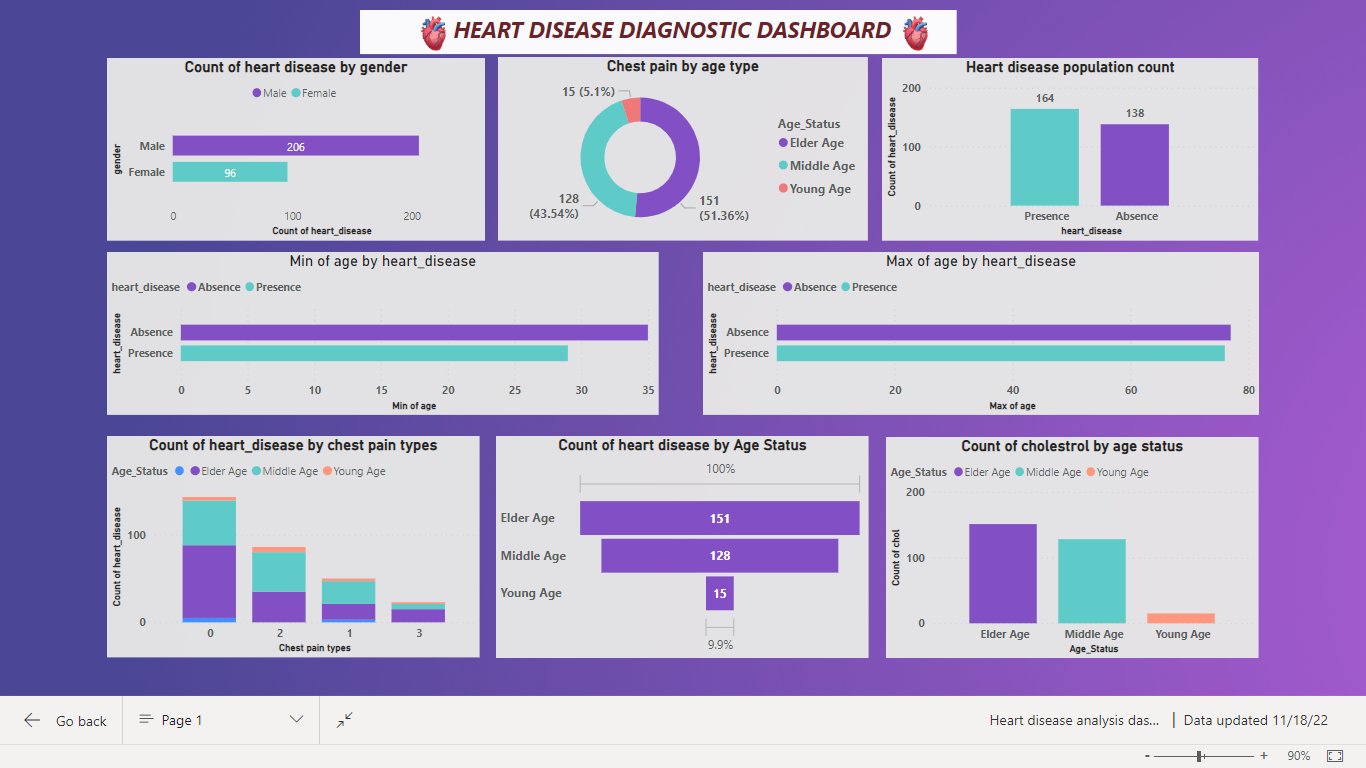

What the dashboard file says about the page in this screenshot:
{"tool":"powerbi","page":{"name":"Page 1","canvas":[1280,720],"ordinal":0},"visuals":[{"type":"columnChart","title":"Heart disease population count","fields":{"Category":["Heart Disease Diagnostic Analysis cleaned.heart_disease"],"Y":["CountNonNull(Heart Disease Diagnostic Analysis cleaned.heart_disease)"]},"box":[861.5,53.8,418.5,203.1],"z":0},{"type":"barChart","title":"Count of heart disease by gender ","fields":{"Y":["CountNonNull(Heart Disease Diagnostic Analysis cleaned.heart_disease)"],"Category":["Heart Disease Diagnostic Analysis cleaned.Sex1"],"Series":["Heart Disease Diagnostic Analysis cleaned.Sex1"]},"box":[0,53.8,420,203.1],"z":1000},{"type":"columnChart","title":"Count of heart_disease by chest pain types ","fields":{"Category":["Heart Disease Diagnostic Analysis cleaned.cp"],"Y":["CountNonNull(Heart Disease Diagnostic Analysis cleaned.heart_disease)"],"Series":["Heart Disease Diagnostic Analysis cleaned.Age_Status"]},"box":[0,473.8,413.8,246.2],"z":2000},{"type":"barChart","title":"Max of age by heart_disease ","fields":{"Y":["Max(Heart Disease Diagnostic Analysis cleaned.age)"],"Category":["Heart Disease Diagnostic Analysis cleaned.heart_disease"],"Series":["Heart Disease Diagnostic Analysis cleaned.heart_disease"]},"box":[662,269,618,181],"z":3000},{"type":"funnel","title":"Count of heart disease by Age Status","fields":{"Category":["Heart Disease Diagnostic Analysis cleaned.Age_Status"],"Y":["CountNonNull(Heart Disease Diagnostic Analysis cleaned.heart_disease)"]},"box":[432.2,473.3,414.4,246.7],"z":4000},{"type":"donutChart","title":"Chest pain by age type","fields":{"Y":["CountNonNull(Heart Disease Diagnostic Analysis cleaned.cp)"],"Category":["Heart Disease Diagnostic Analysis cleaned.Age_Status"]},"box":[434.5,52.7,410.9,203.6],"z":5000},{"type":"columnChart","title":"Count of cholestrol by age status","fields":{"Y":["CountNonNull(Heart Disease Diagnostic Analysis cleaned.chol)"],"Category":["Heart Disease Diagnostic Analysis cleaned.Age_Status"],"Series":["Heart Disease Diagnostic Analysis cleaned.Age_Status"]},"box":[866,474,414,246],"z":6000},{"type":"textbox","box":[281.5,0,663.1,49.2],"z":7000},{"type":"image","box":[321.7,0,73.9,49.6],"z":8000},{"type":"image","box":[858.3,0,73.9,49.6],"z":9000},{"type":"barChart","title":"Min of age by heart_disease ","fields":{"Y":["Min(Heart Disease Diagnostic Analysis cleaned.age)"],"Category":["Heart Disease Diagnostic Analysis cleaned.heart_disease"],"Series":["Heart Disease Diagnostic Analysis cleaned.heart_disease"]},"box":[0,269,613,181],"z":10000}]}

Visuals, with their boxes on the page's 1280x720 design canvas (x1, y1, x2, y2). These are canvas units, not pixel positions in the 1366x768 screenshot, which may show the page scaled, cropped or inside an application window:
"Heart disease population count" columnChart: 862 54 1280 257
"Count of heart disease by gender " barChart: 0 54 420 257
"Count of heart_disease by chest pain types " columnChart: 0 474 414 720
"Max of age by heart_disease " barChart: 662 269 1280 450
"Count of heart disease by Age Status" funnel: 432 473 847 720
"Chest pain by age type" donutChart: 434 53 845 256
"Count of cholestrol by age status" columnChart: 866 474 1280 720
textbox: 282 0 945 49
image: 322 0 396 50
image: 858 0 932 50
"Min of age by heart_disease " barChart: 0 269 613 450
